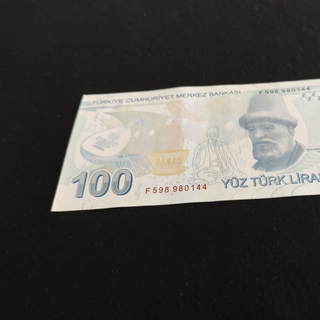100TLBack: (50, 74, 320, 212)
